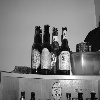beer: (58, 27, 72, 77)
